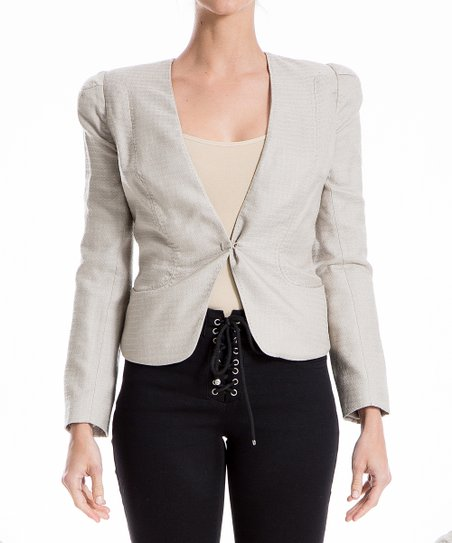F_W_suit jacket: (58, 53, 403, 371)
